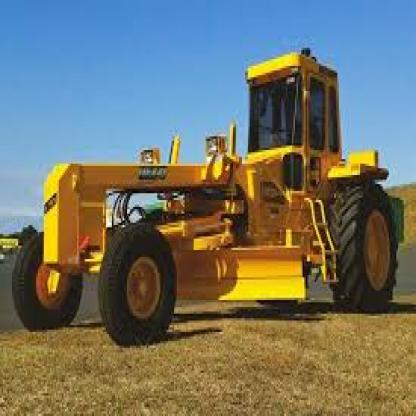bull_dozer/loader/grader: (9, 34, 415, 357)
